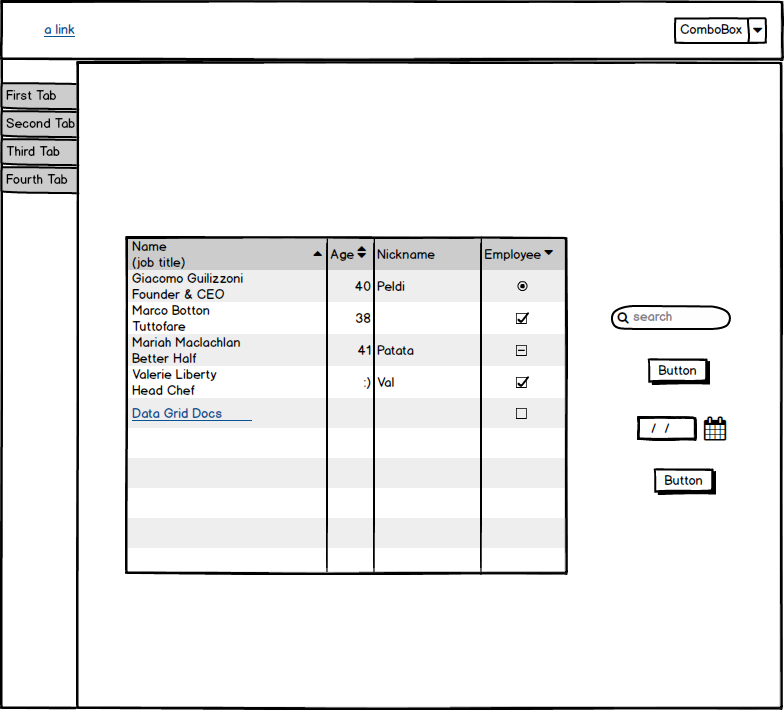button: (647, 464, 719, 500), (644, 355, 716, 387)
date_picker: (632, 408, 734, 448)
navlink: (30, 14, 83, 43)
search: (602, 299, 739, 337)
select_box: (669, 13, 772, 46)
sidebar: (1, 74, 85, 198)
table: (118, 226, 578, 585)
